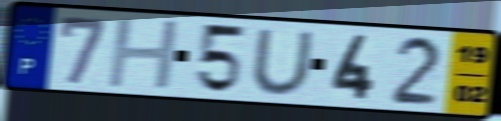2: (388, 34, 445, 110)
4: (328, 33, 377, 102)
5: (194, 20, 247, 96)
7: (56, 13, 111, 87)
H: (104, 18, 183, 91)
U: (249, 27, 317, 97)
